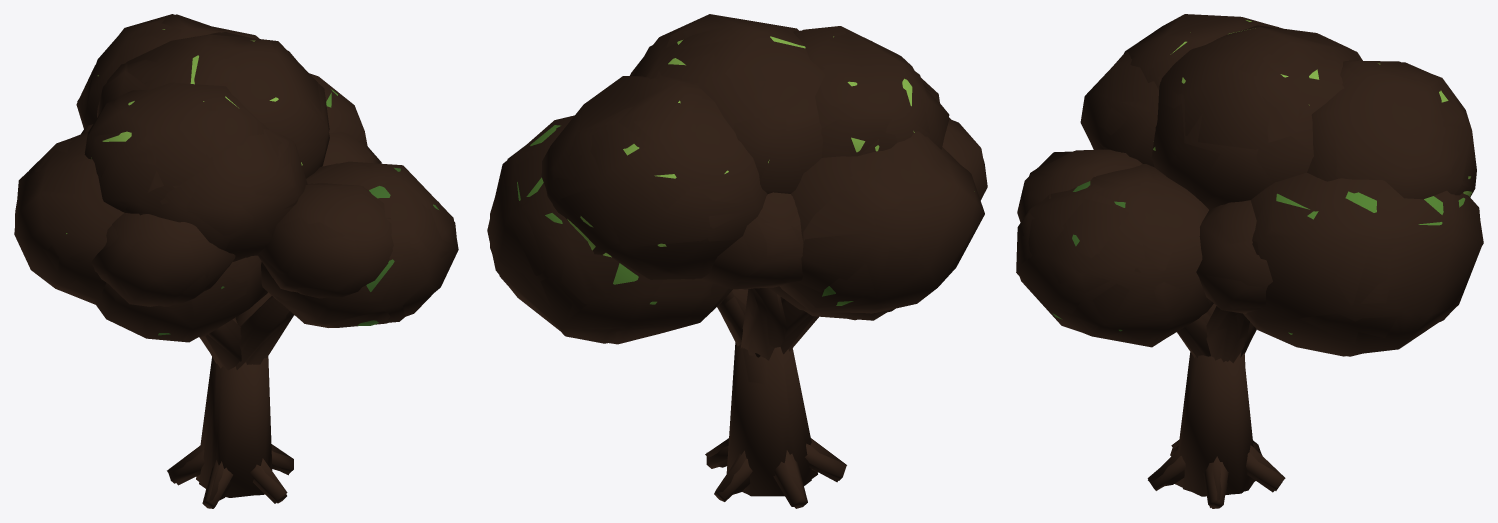
Rendered from sycamore.glb.
The picture shows the model from 3 angles, left to right: view 1: azimuth 30°, elevation 25°; view 2: azimuth 150°, elevation 25°; view 3: azimuth 270°, elevation 25°; orthographic projection. The views are drawn at different scales.
Visible parts, largest first — view 1: sycamore_LOD1_outline, sycamore_outline, sycamore; view 2: sycamore_LOD1_outline, sycamore_outline, sycamore; view 3: sycamore_LOD1_outline, sycamore_outline, sycamore.
Boxes of the visible parts, x1,y1,x2,y2 form: sycamore_LOD1_outline: (14, 14, 458, 503); sycamore_outline: (15, 14, 456, 508); sycamore: (66, 29, 438, 335); sycamore_LOD1_outline: (487, 14, 987, 506); sycamore_outline: (490, 17, 983, 508); sycamore: (517, 36, 974, 305); sycamore_LOD1_outline: (1016, 14, 1481, 507); sycamore_outline: (1018, 19, 1483, 508); sycamore: (1052, 20, 1472, 334).
Size of what is drawn, in the model's own units: 6.9 by 7.44 by 7.
